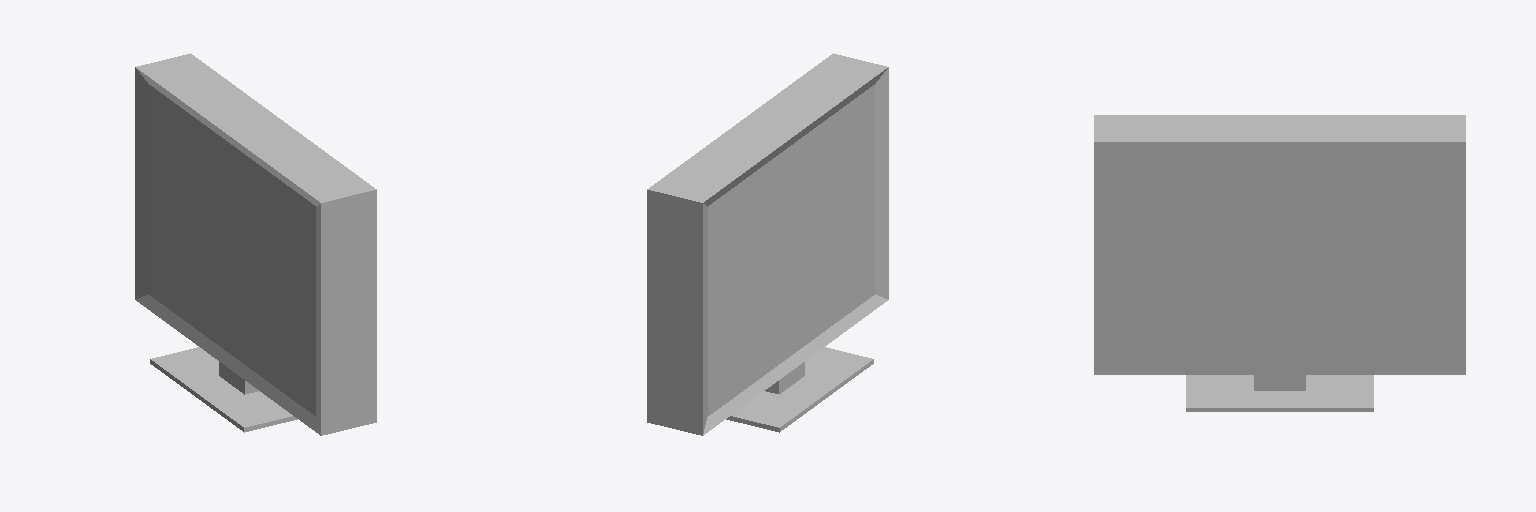
Rendered from Computer.obj.
3 views of the same model, side by side, from view 1: azimuth 30°, elevation 25°; view 2: azimuth 150°, elevation 25°; view 3: azimuth 270°, elevation 25° (orthographic).
Parts seen in each view (by area): view 1: Computer; view 2: Computer; view 3: Computer.
Boxes of the visible parts, box(x1,y1,x2,y2) form: Computer: box(135, 53, 376, 435); Computer: box(647, 53, 888, 435); Computer: box(1094, 115, 1465, 411).
Bounding box in the file's own units: 0.4222 × 0.8774 × 1.16.